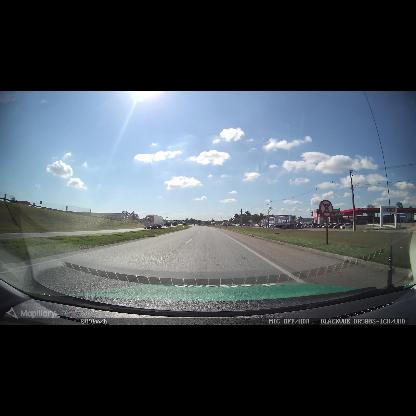R-6c: (319, 200, 333, 217), (225, 221, 228, 224)
